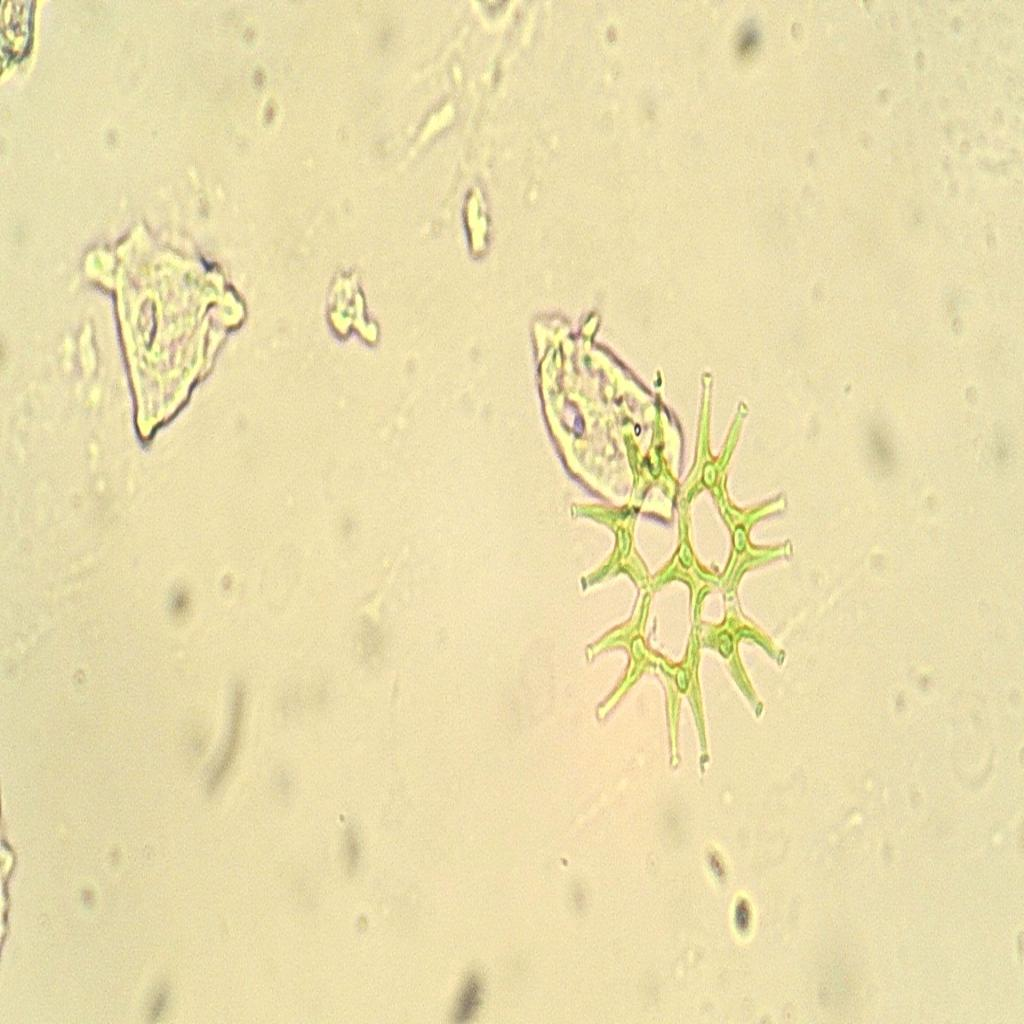Pediastrum_75T: (555, 333, 811, 826)
